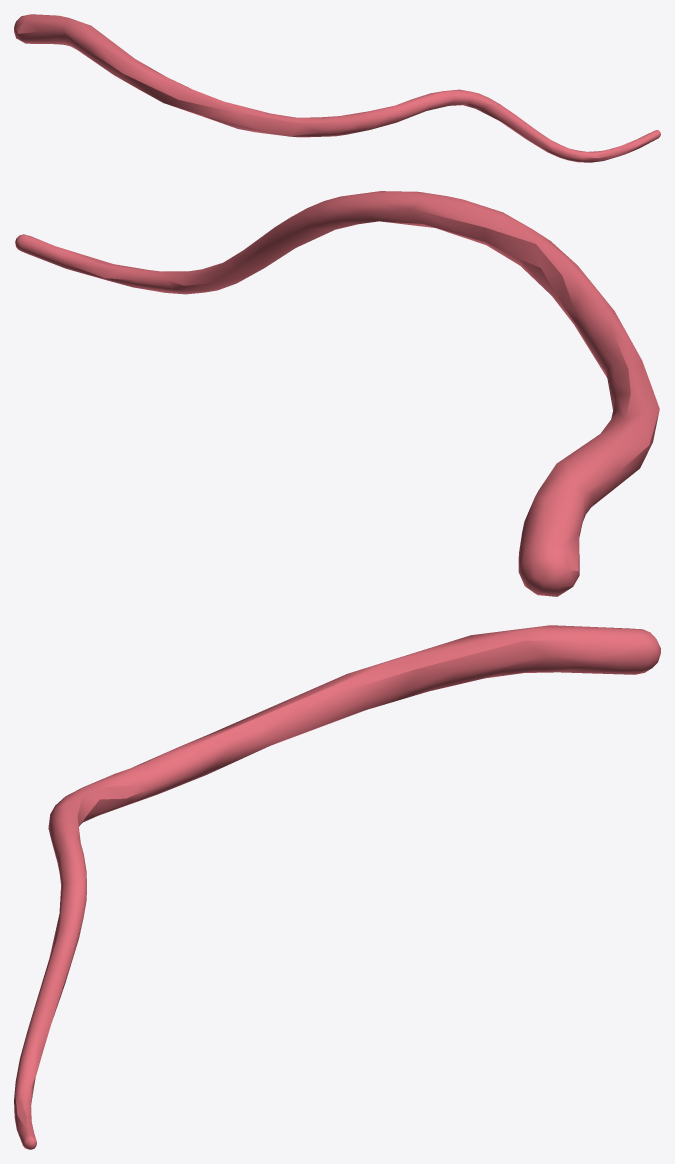
The model's file is fma70453_fj3092.glb.
3 renders of one model, top to bottom at view 1: azimuth 30°, elevation 25°; view 2: azimuth 150°, elevation 25°; view 3: azimuth 270°, elevation 25°, orthographic. The views are drawn at different scales.
Visible parts, largest first — view 1: FMA70453_FJ3092; view 2: FMA70453_FJ3092; view 3: FMA70453_FJ3092.
Boxes of the visible parts, box(x1,y1,x2,y2) form: FMA70453_FJ3092: box(14, 14, 660, 162); FMA70453_FJ3092: box(15, 191, 659, 596); FMA70453_FJ3092: box(14, 625, 660, 1149).
Bounding box in the file's own units: 0.0466 × 0.0111 × 0.0342.
